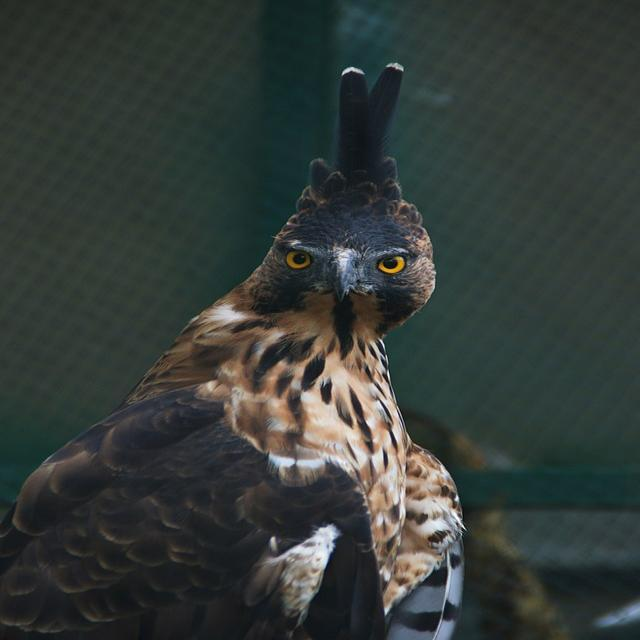Elang Jawa: (0, 45, 562, 640)
